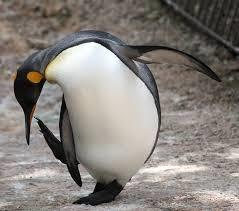king: (6, 21, 222, 205)
